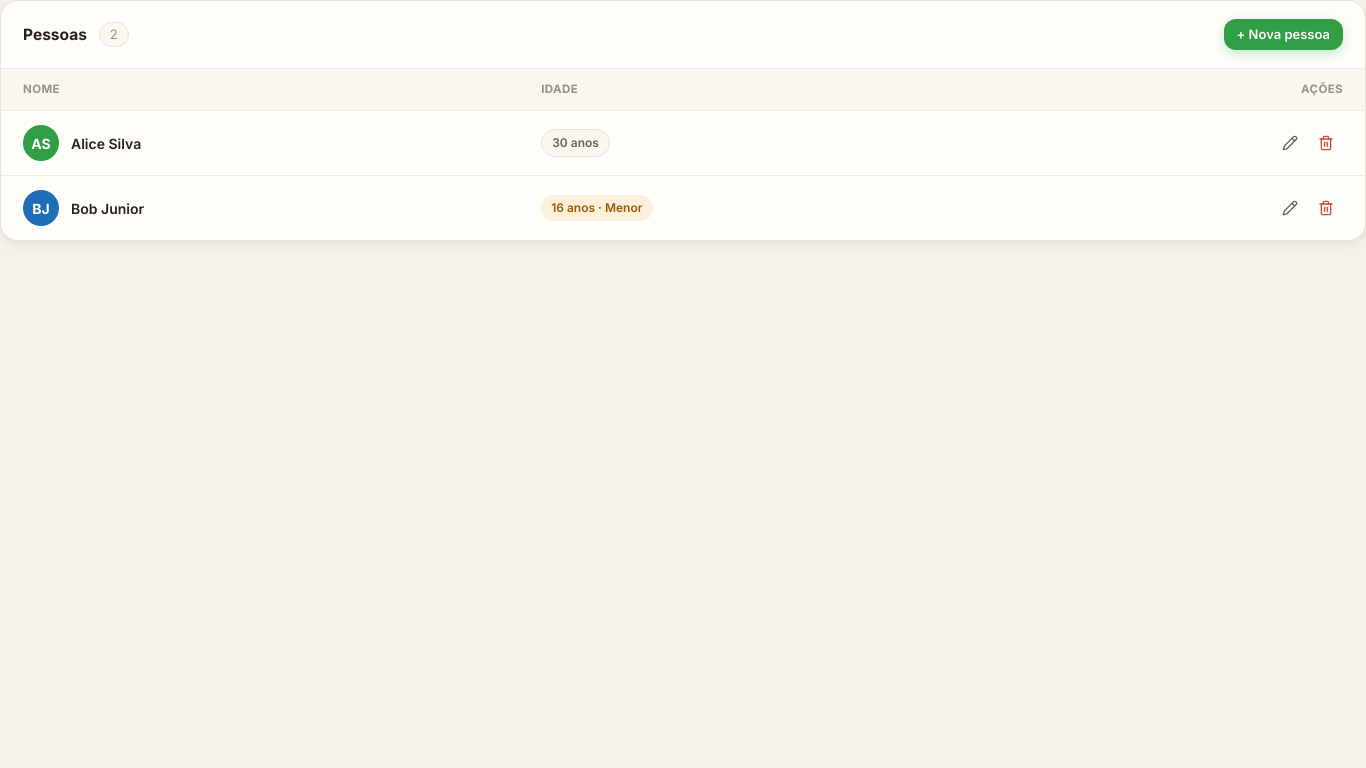
it: PeoplePage › shows validation error "Nome é obrigatório." when submitting empty name
This screenshot has width=1366, height=768.
Expected: the text "Alice Silva" is shown, [71,133,141,154]
Click the button "+ Nova pessoa": [1283, 34] box [1224,19,1343,50]
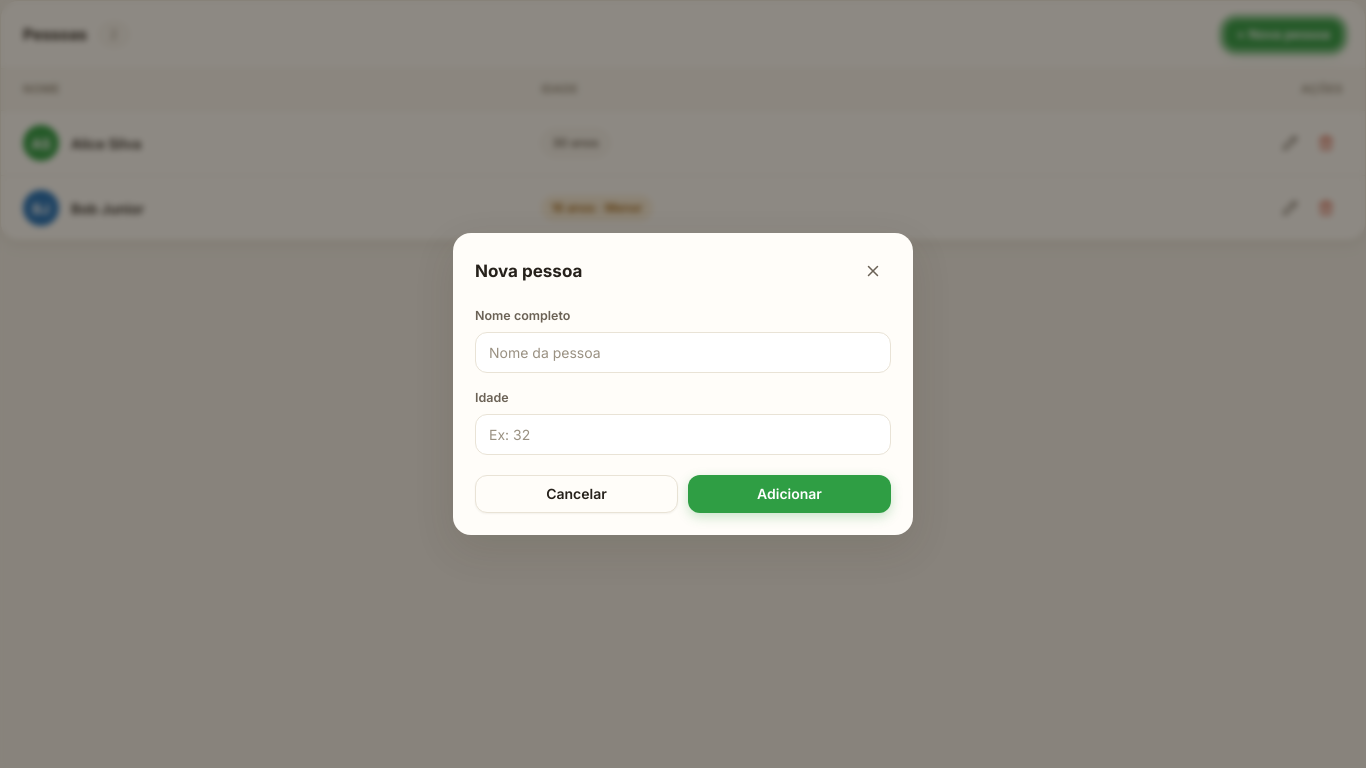
# Submit without filling name
Click the button "Adicionar": [790, 494] box [688,475,891,513]
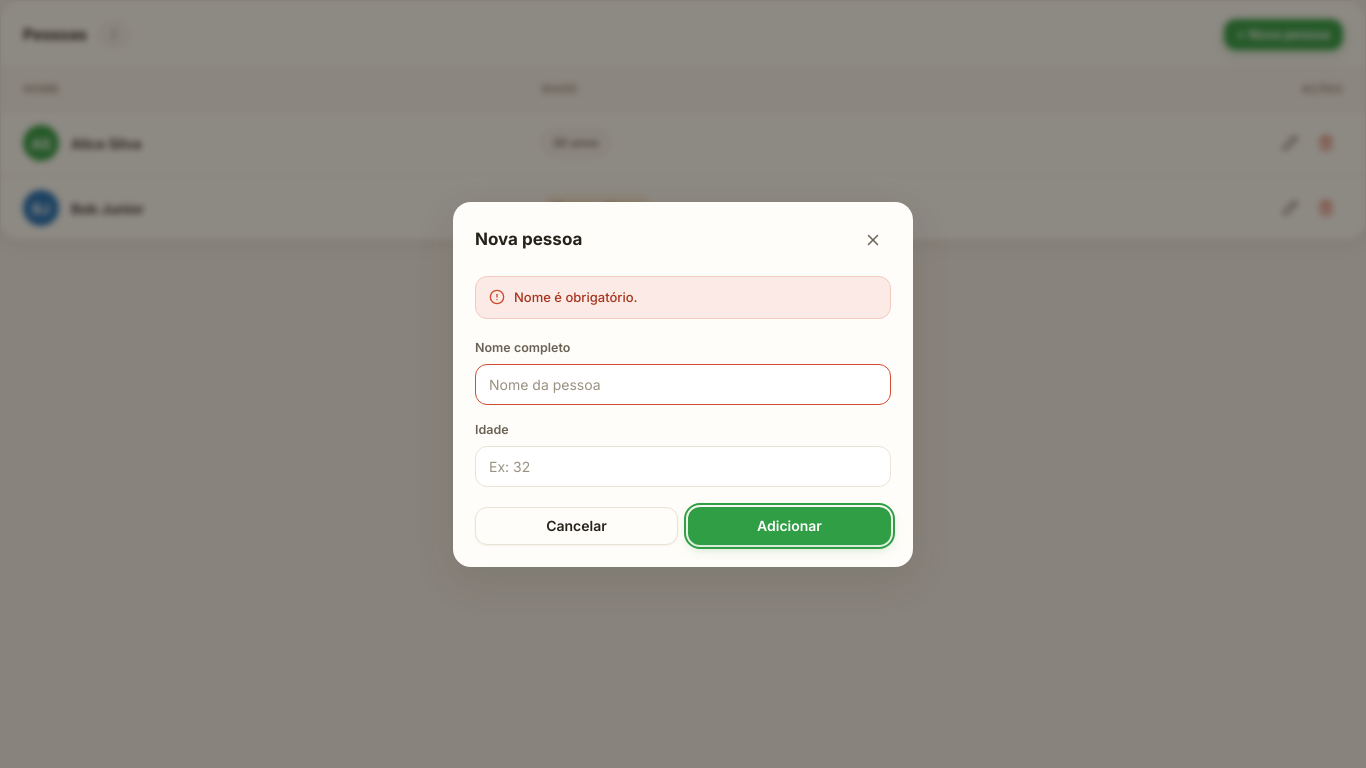
Expected: the text "Nome é obrigatório." is shown, [475,276,891,319]
